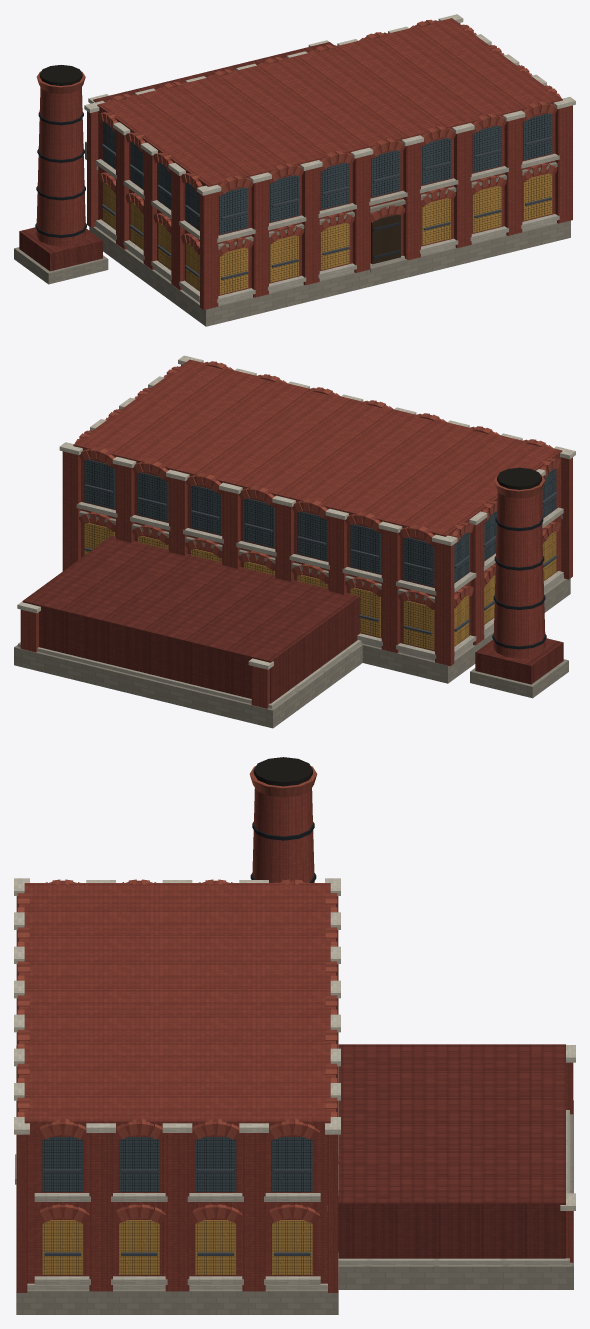
File: fun-1-construction.glb
3 views of the same model, one above another, from view 1: azimuth 30°, elevation 25°; view 2: azimuth 150°, elevation 25°; view 3: azimuth 270°, elevation 25° (orthographic). The views are drawn at different scales.
Bounding box in the file's own units: 30.26 × 12.53 × 23.88.
Materials: 23 (19 with a texture image).
